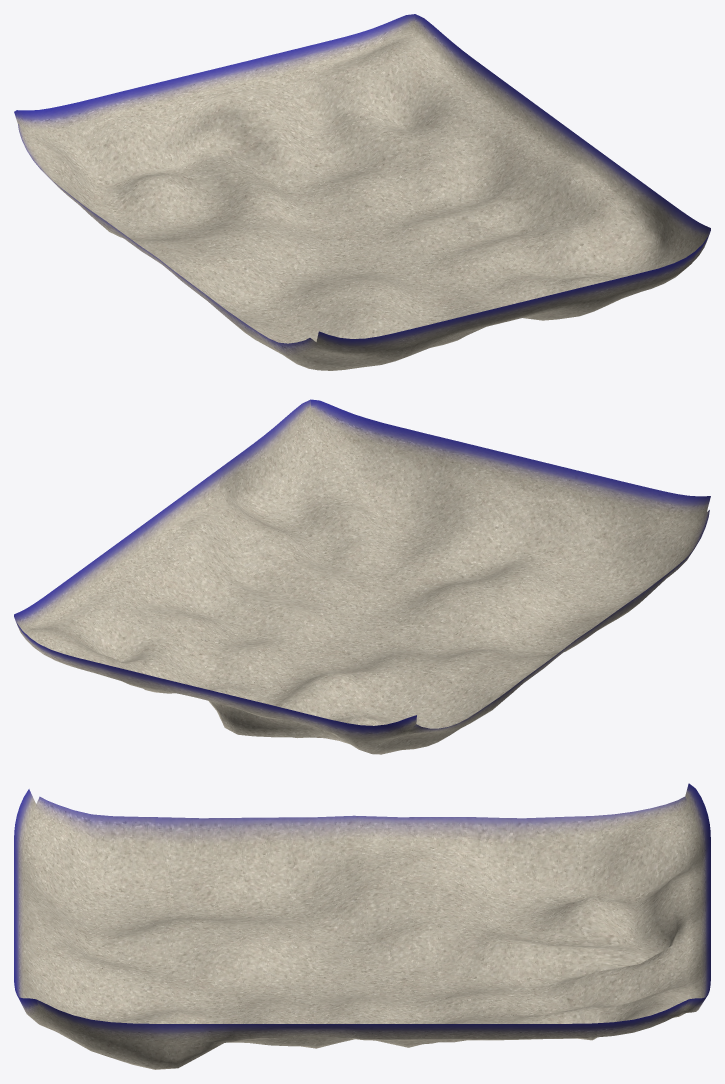
The model's file is Ocean6.glb.
The picture shows the model from 3 angles, top to bottom: view 1: azimuth 30°, elevation 25°; view 2: azimuth 150°, elevation 25°; view 3: azimuth 270°, elevation 25°; orthographic projection. The views are drawn at different scales.
Visible parts, largest first — view 1: floor; view 2: floor; view 3: floor.
Part boxes in pixels (left/top/right/bottom): floor: left=14, top=14, right=710, bottom=370; floor: left=14, top=399, right=710, bottom=754; floor: left=14, top=783, right=710, bottom=1069.
Bounding box in the file's own units: 37.9 × 6.99 × 49.04.
Materials: 1 (1 with a texture image).
